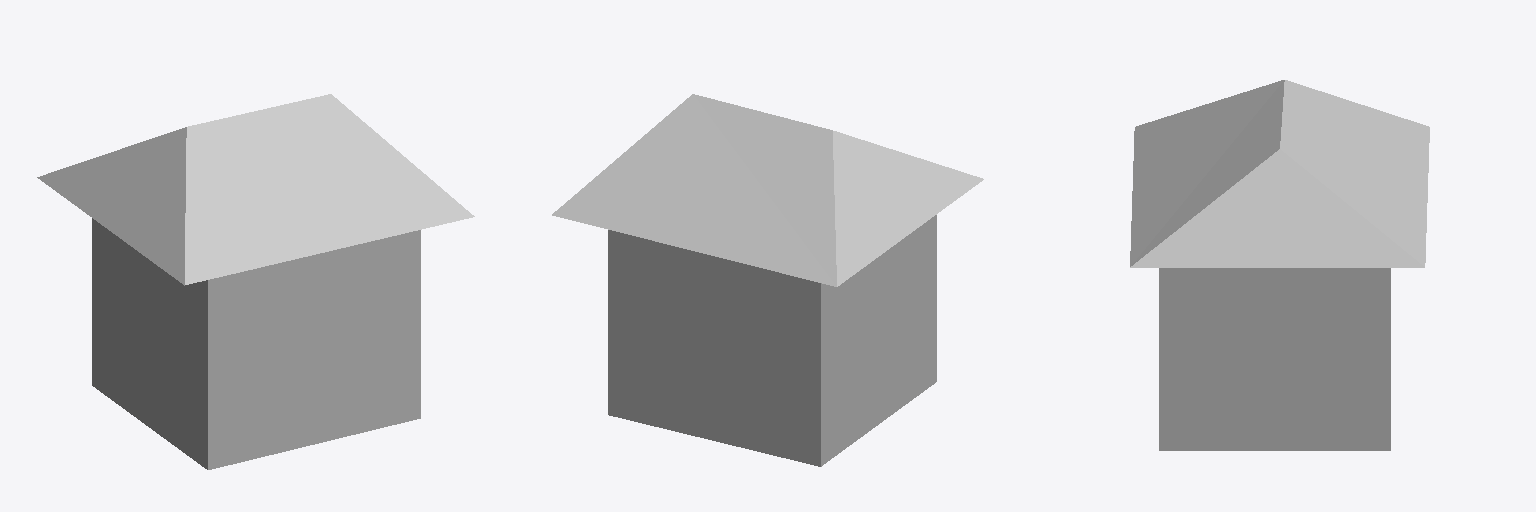
The model's file is House.obj.
3 views of the same model, side by side, from view 1: azimuth 30°, elevation 25°; view 2: azimuth 150°, elevation 25°; view 3: azimuth 270°, elevation 25° (orthographic).
Visible parts, largest first — view 1: House; view 2: House; view 3: House.
Part boxes in pixels (x1,y1,x2,y2): House: (37,94,474,469); House: (552,94,983,466); House: (1130,80,1429,450).
Size of the model in its own units: 7.1 by 6.77 by 6.4.